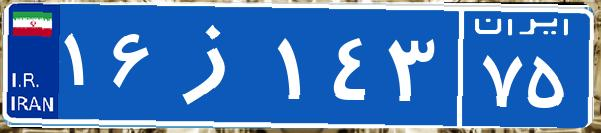1: (273, 28, 330, 110), (57, 26, 110, 107)
3: (385, 28, 445, 110)
4: (330, 28, 385, 110)
5: (525, 38, 570, 115)
6: (110, 28, 158, 105)
7: (475, 38, 525, 113)
ز: (158, 15, 273, 115)
